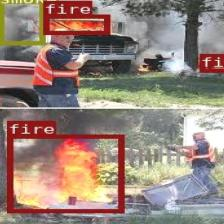fire: (7, 134, 123, 212), (42, 14, 109, 33), (199, 53, 224, 71)
smoke: (0, 0, 44, 44)
